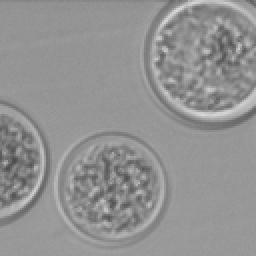picoshell: (140, 0, 254, 128), (54, 134, 170, 246), (0, 100, 50, 224)
